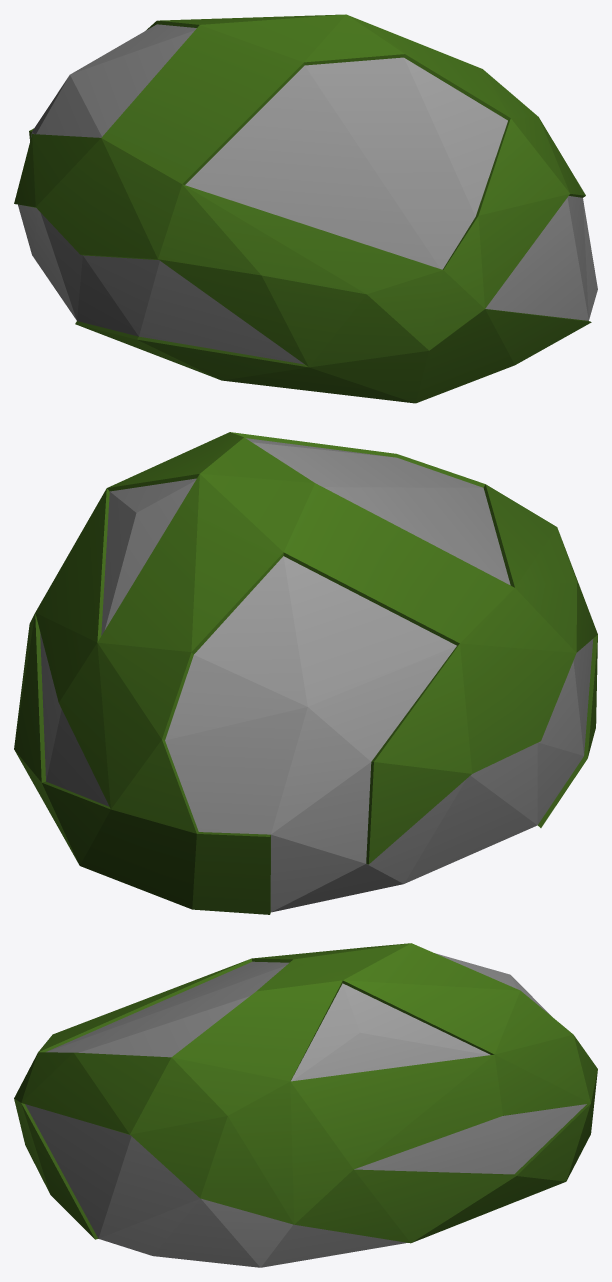
The model's file is Stone_average_01_mossy.fbx.
3 renders of one model, top to bottom at view 1: azimuth 30°, elevation 25°; view 2: azimuth 150°, elevation 25°; view 3: azimuth 270°, elevation 25°, orthographic. The views are drawn at different scales.
Parts seen in each view (by area): view 1: Stone_average_01_mossy; view 2: Stone_average_01_mossy; view 3: Stone_average_01_mossy.
Boxes of the visible parts, x1,y1,x2,y2 form: Stone_average_01_mossy: [14, 14, 597, 403]; Stone_average_01_mossy: [14, 432, 597, 914]; Stone_average_01_mossy: [14, 943, 597, 1267].
Bounding box in the file's own units: 1.85 × 0.9214 × 2.29.
